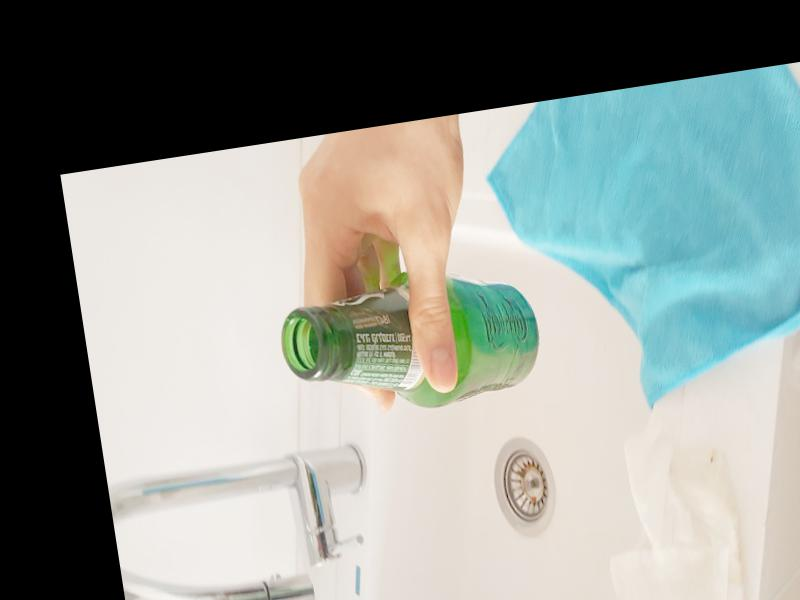Beer: (274, 256, 549, 430)
